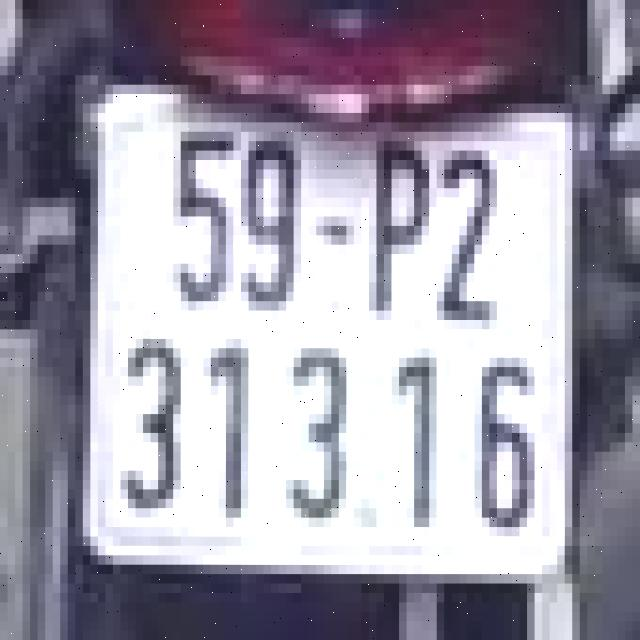1: (380, 339, 448, 546), (200, 334, 268, 532)
2: (436, 137, 504, 334)
3: (109, 330, 200, 518), (274, 329, 358, 527)
5: (166, 118, 241, 306)
6: (463, 339, 553, 546)
9: (237, 132, 305, 310)
P: (362, 127, 429, 325)
